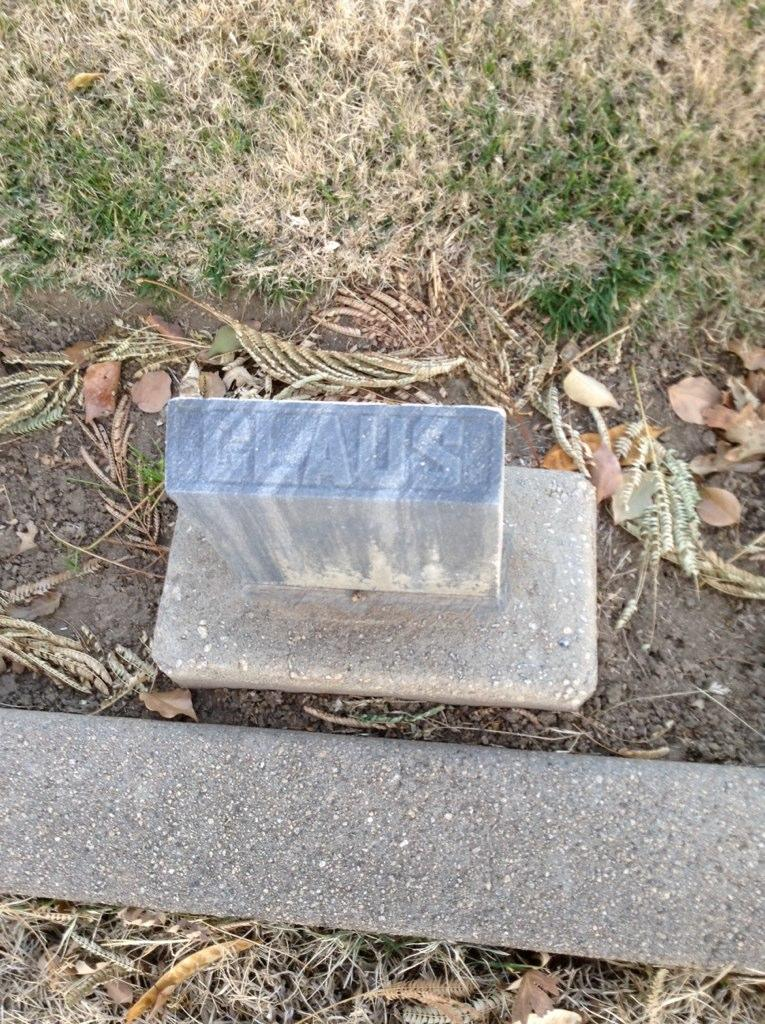upright: (74, 350, 653, 743)
